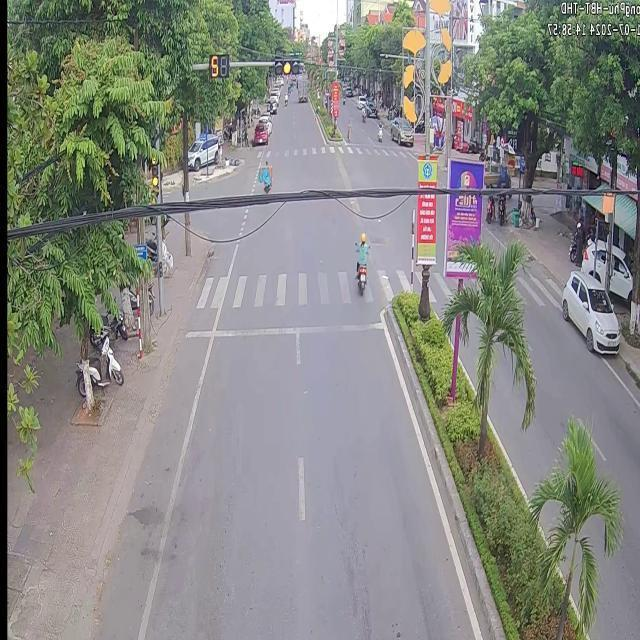motobike: (356, 234, 367, 288), (258, 161, 270, 192)
stop_line: (182, 319, 381, 336)
yellow_light: (272, 56, 298, 74), (149, 156, 159, 190)
